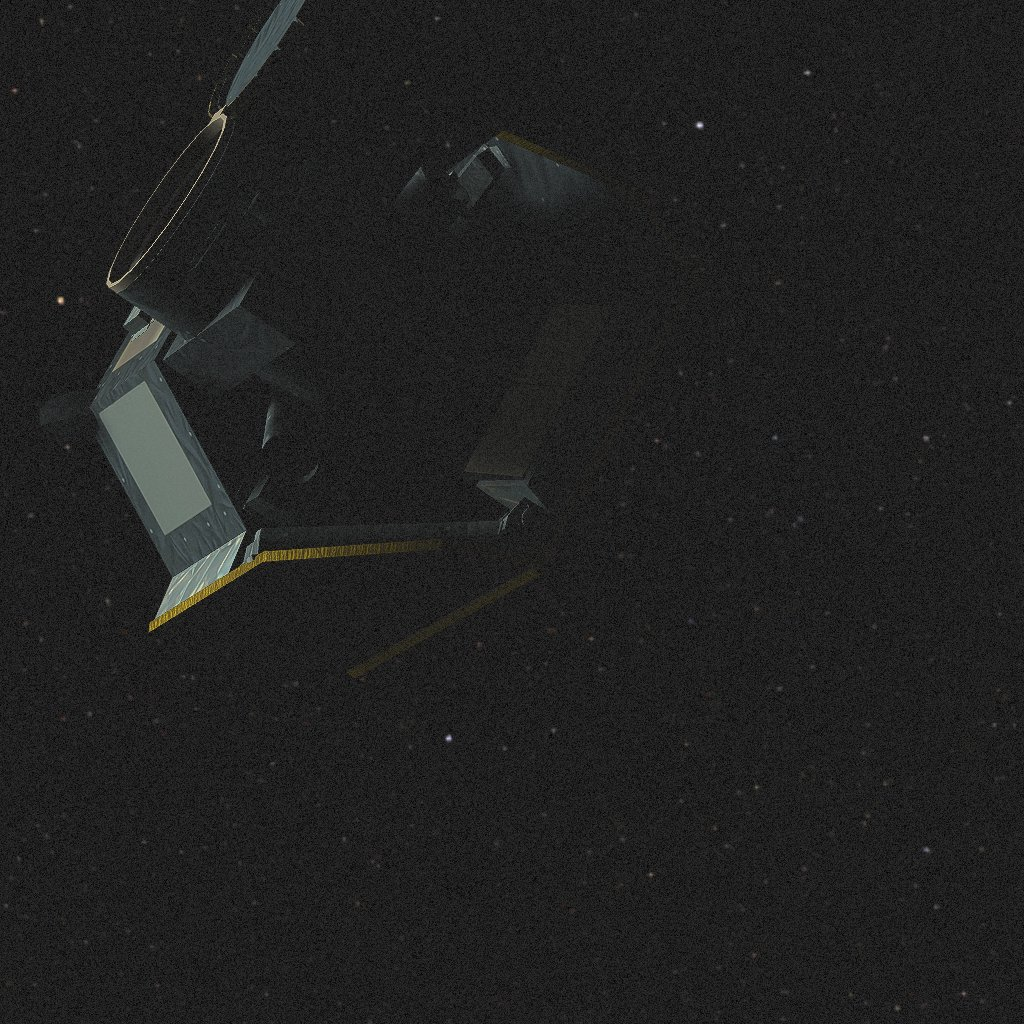cheops: (40, 0, 702, 678)
